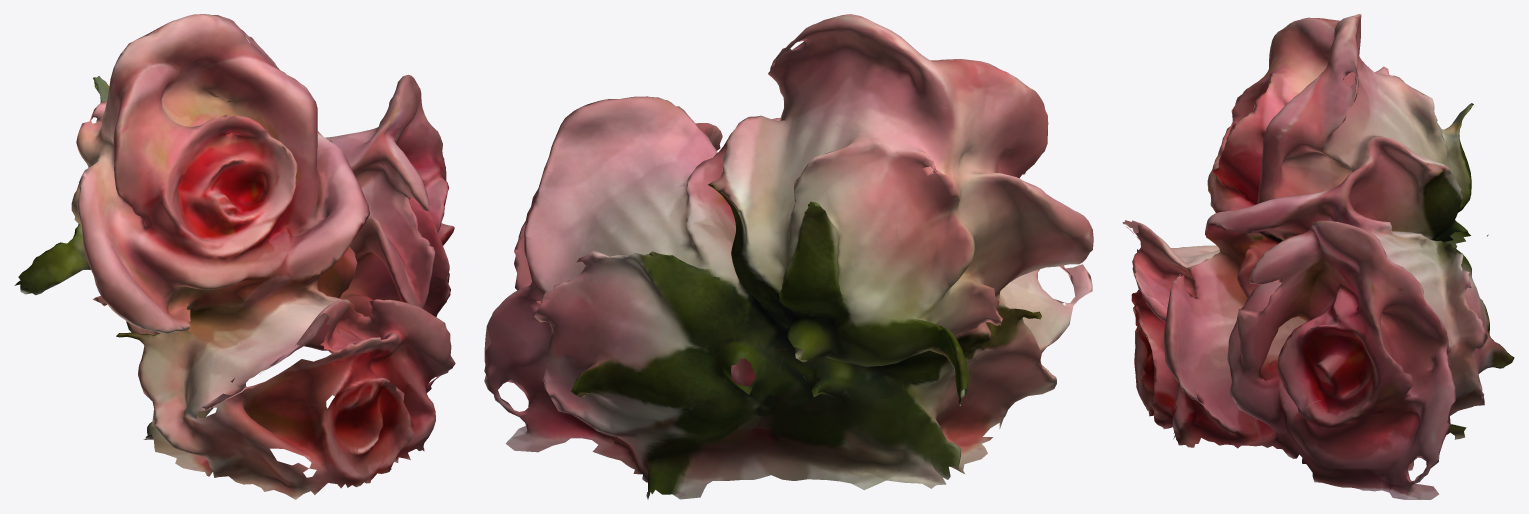
Rendered from Flowers.fbx.
The picture shows the model from 3 angles, left to right: view 1: azimuth 30°, elevation 25°; view 2: azimuth 150°, elevation 25°; view 3: azimuth 270°, elevation 25°; orthographic projection. The views are drawn at different scales.
Visible parts, largest first — view 1: Object; view 2: Object; view 3: Object.
Boxes of the visible parts, <box> form: Object: <box>14,14,455,499</box>; Object: <box>484,14,1093,499</box>; Object: <box>1122,14,1514,499</box>.
Bounding box in the file's own units: 11.09 × 10.09 × 9.84.
